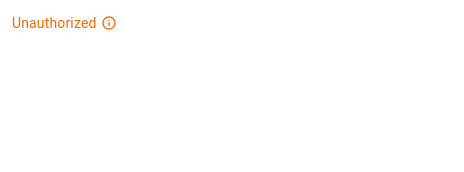
Test: DeviceStatus › explains 7 on hover
The image size is (464, 172).
Hover over the text "Unauthorized" at {"x": 54, "y": 23}, box 12,13 -> 96,33
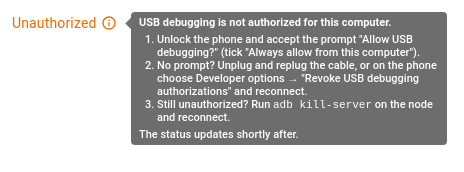
Expected: the text "USB debugging is not authorized for this computer." is shown, 139,16 -> 392,29
